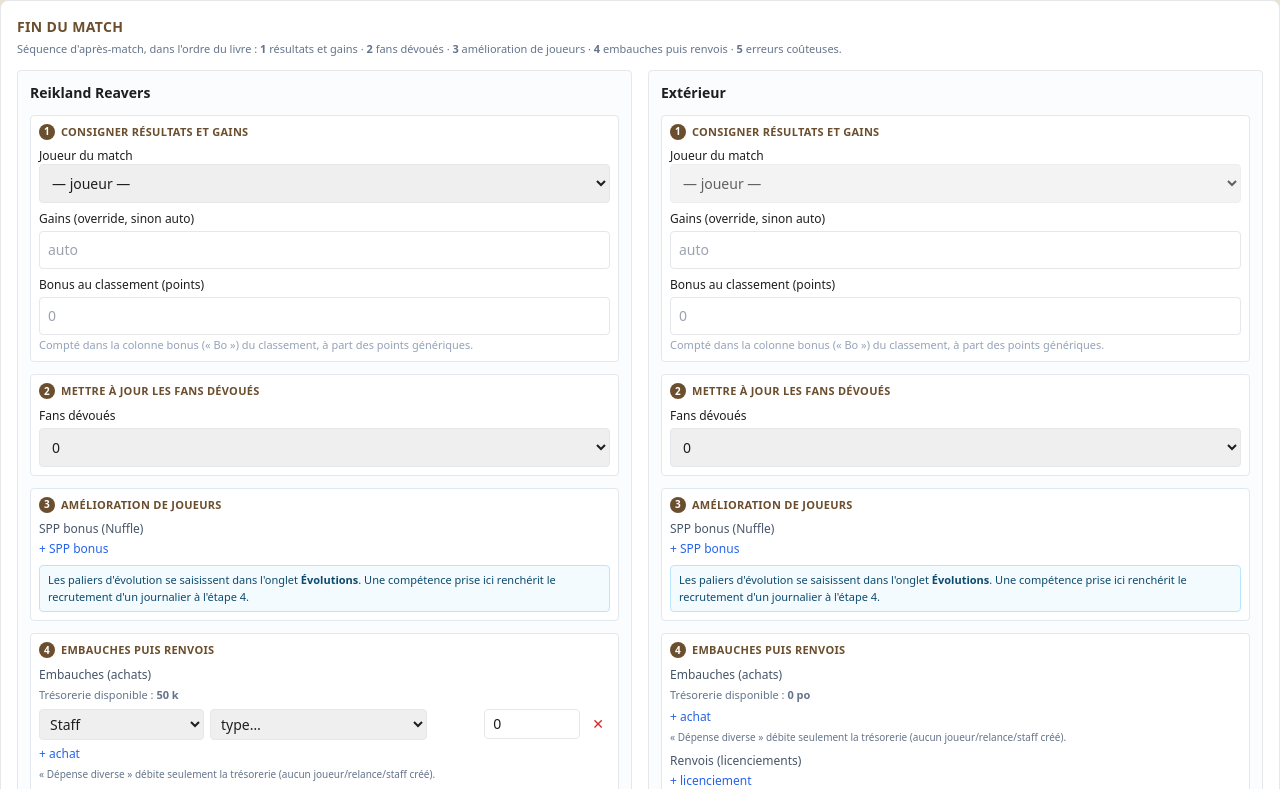
PostMatchPanel — catalogue d'embauche (E46/E47) › remplit le prix du staff choisi
Select "Assistant (0/6) — 10 k" in the dropdown with test id "purchases-home-staff-0": [318, 724] box [210,708,427,740]
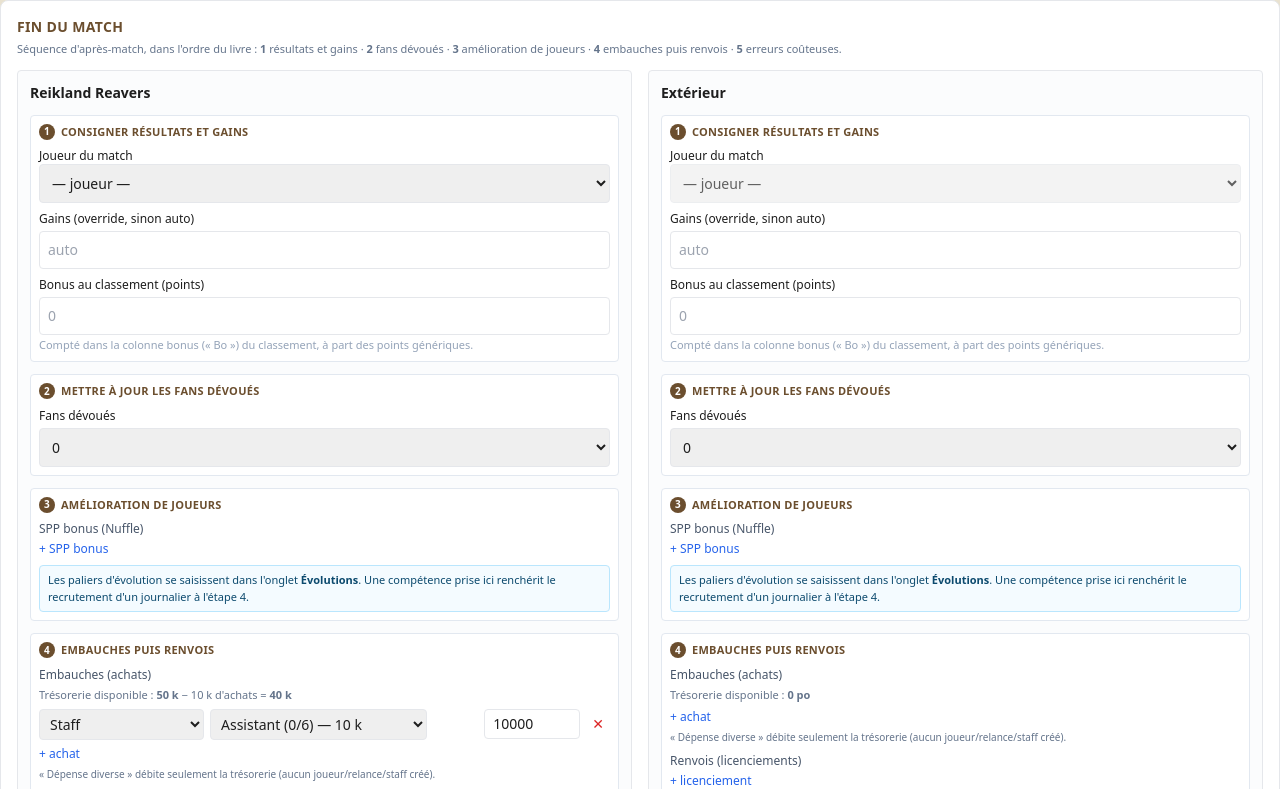
expect the number field with test id "purchases-home-cost-0" holds "10000": met, box [484,709,580,739]
